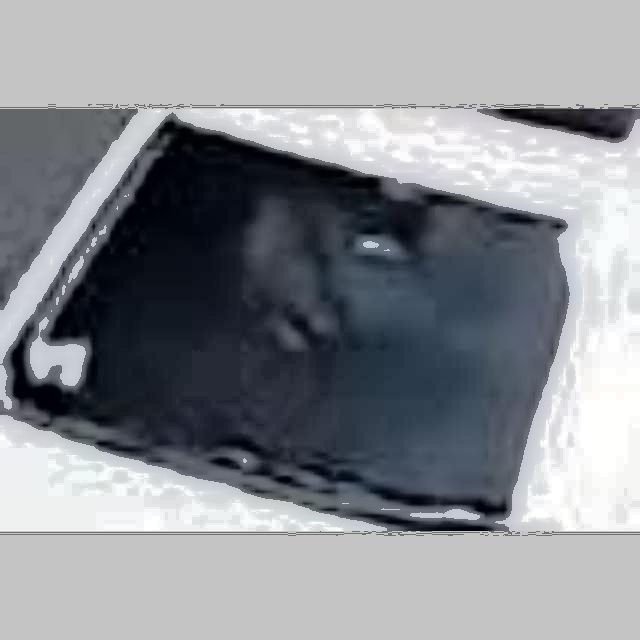pakai: (205, 157, 477, 375)
